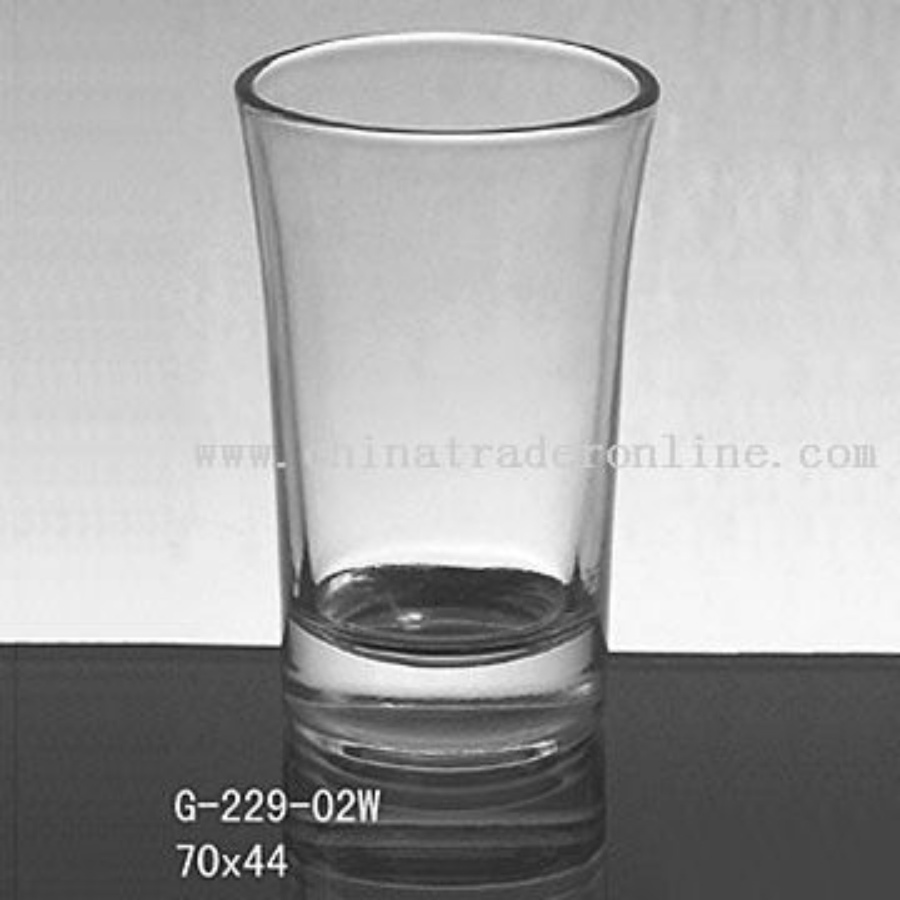whiskey: (254, 36, 644, 743)
